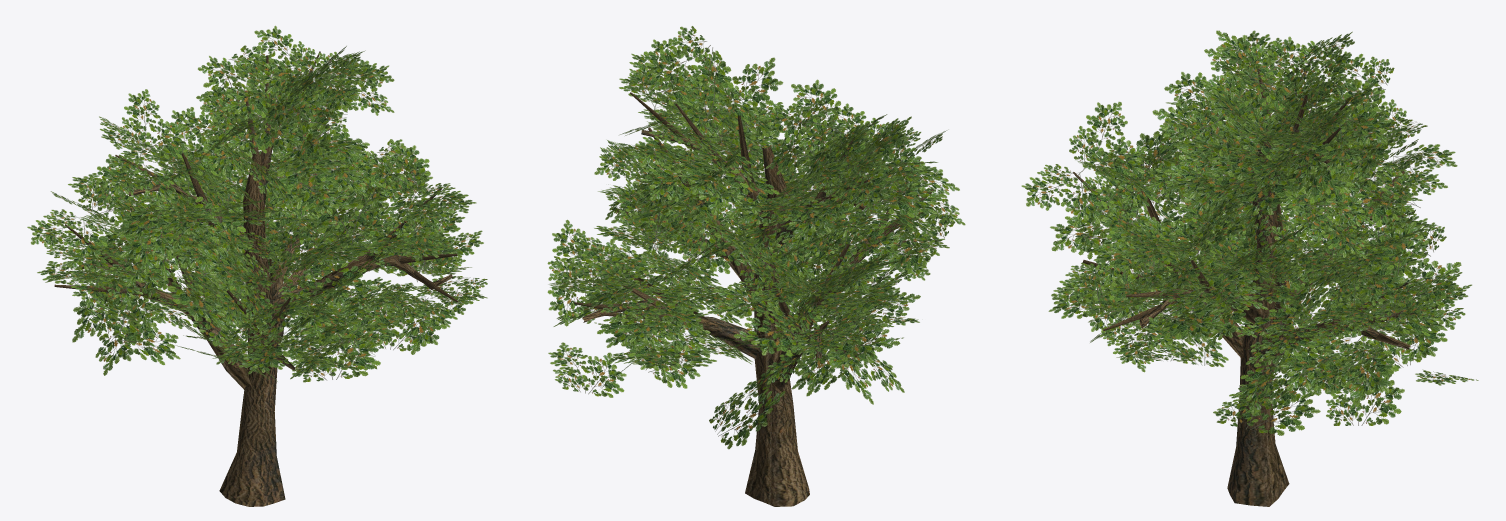
File: Tree-Variant-3.glb
The picture shows the model from 3 angles, left to right: view 1: azimuth 30°, elevation 25°; view 2: azimuth 150°, elevation 25°; view 3: azimuth 270°, elevation 25°; orthographic projection. The views are drawn at different scales.
Parts seen in each view (by area): view 1: Tree-Variant-3; view 2: Tree-Variant-3; view 3: Tree-Variant-3.
Part boxes in pixels (x1,y1,x2,y2): Tree-Variant-3: (27,25,487,506); Tree-Variant-3: (547,26,965,506); Tree-Variant-3: (1021,30,1478,506).
Bounding box in the file's own units: 23.21 × 25.61 × 23.64.
1 material, 1 textured.
